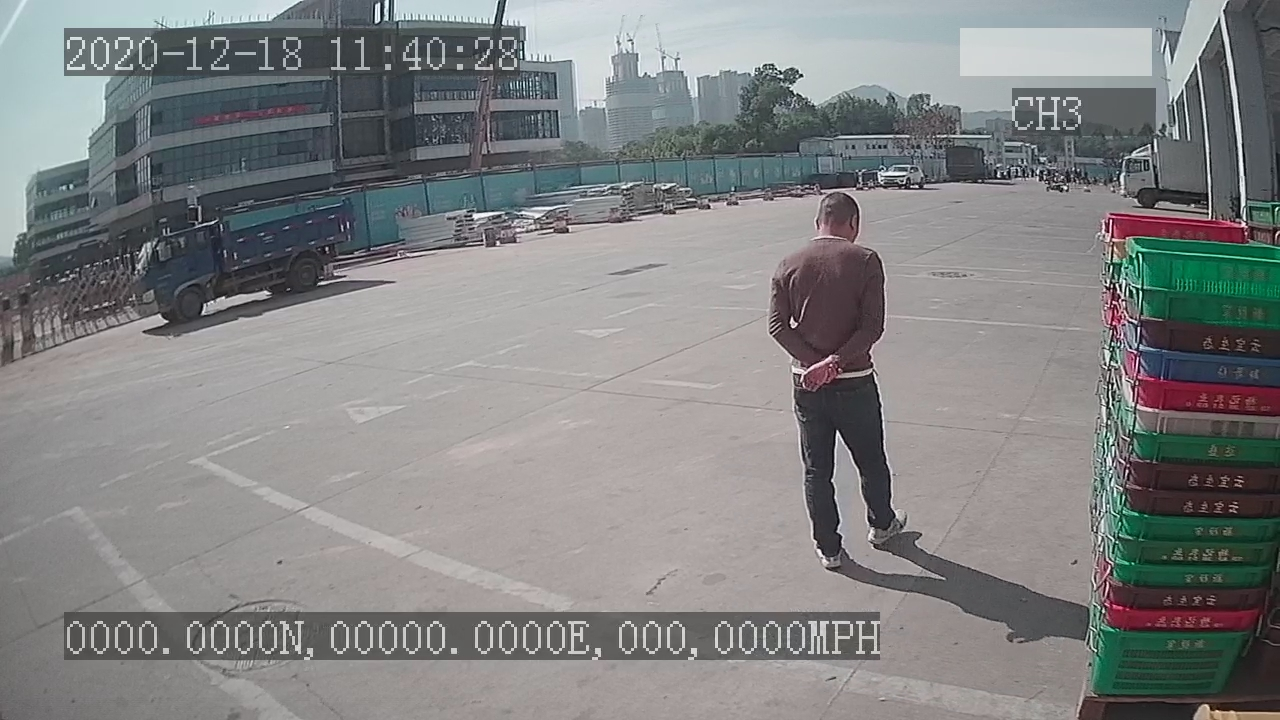person: (768, 187, 910, 572)
